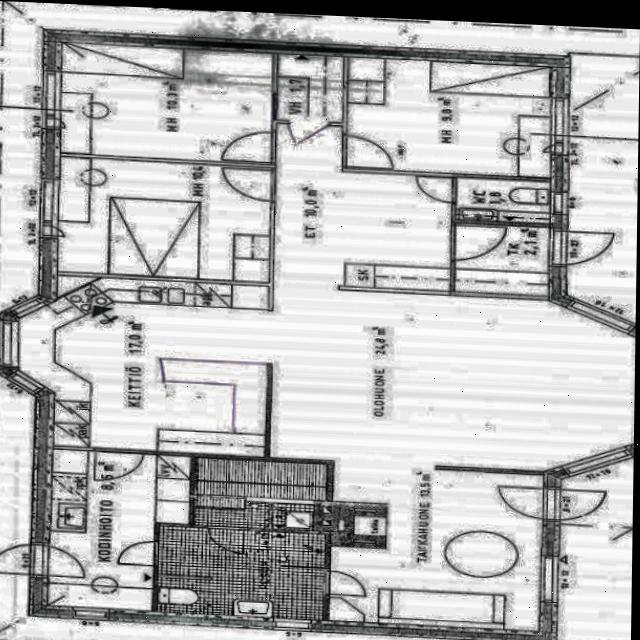room: (13, 273, 274, 456), (155, 455, 330, 619), (55, 156, 275, 282), (57, 41, 276, 163), (344, 57, 555, 177), (43, 448, 194, 612), (453, 223, 552, 295), (276, 53, 343, 122), (455, 177, 551, 223)
